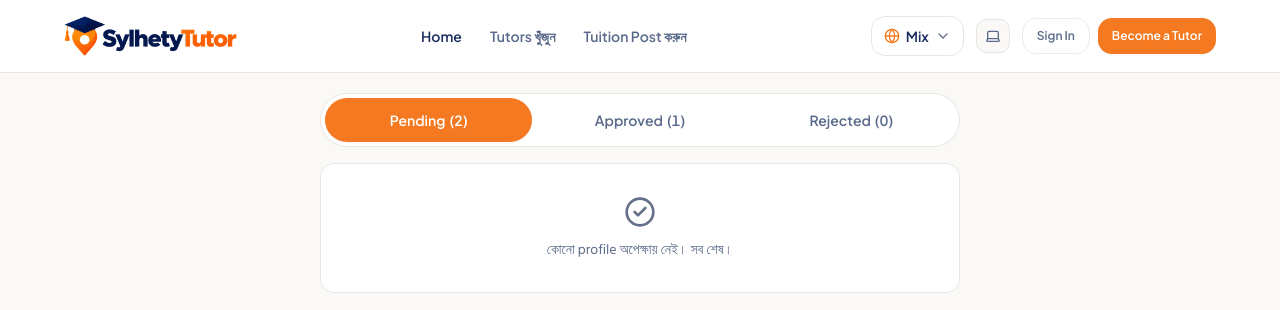
Test: VerificationQueue › switches tab and asks for that status
This screenshot has width=1280, height=310.
Expected: the text "কোনো profile অপেক্ষায় নেই। সব শেষ।" is shown, [547,240,733,260]
Click the tab "Rejected(0)": (851, 120) [748,98,955,142]
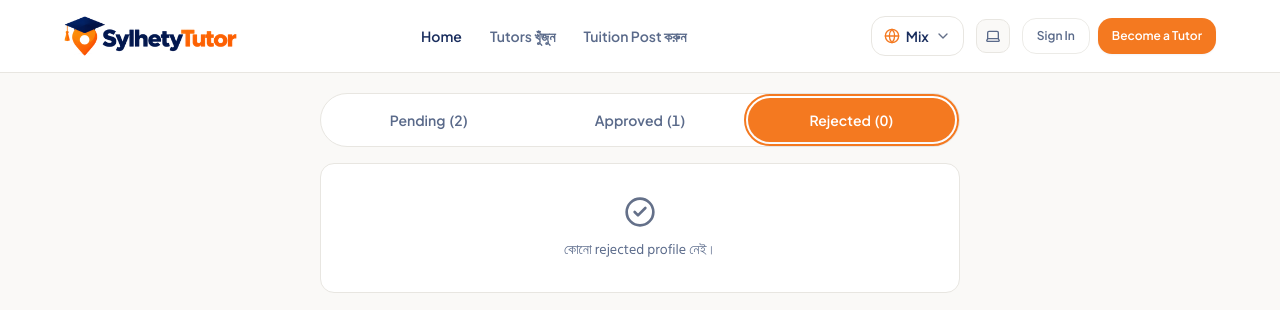
Now the text "কোনো rejected profile নেই।" is shown, box [564,240,716,260]
